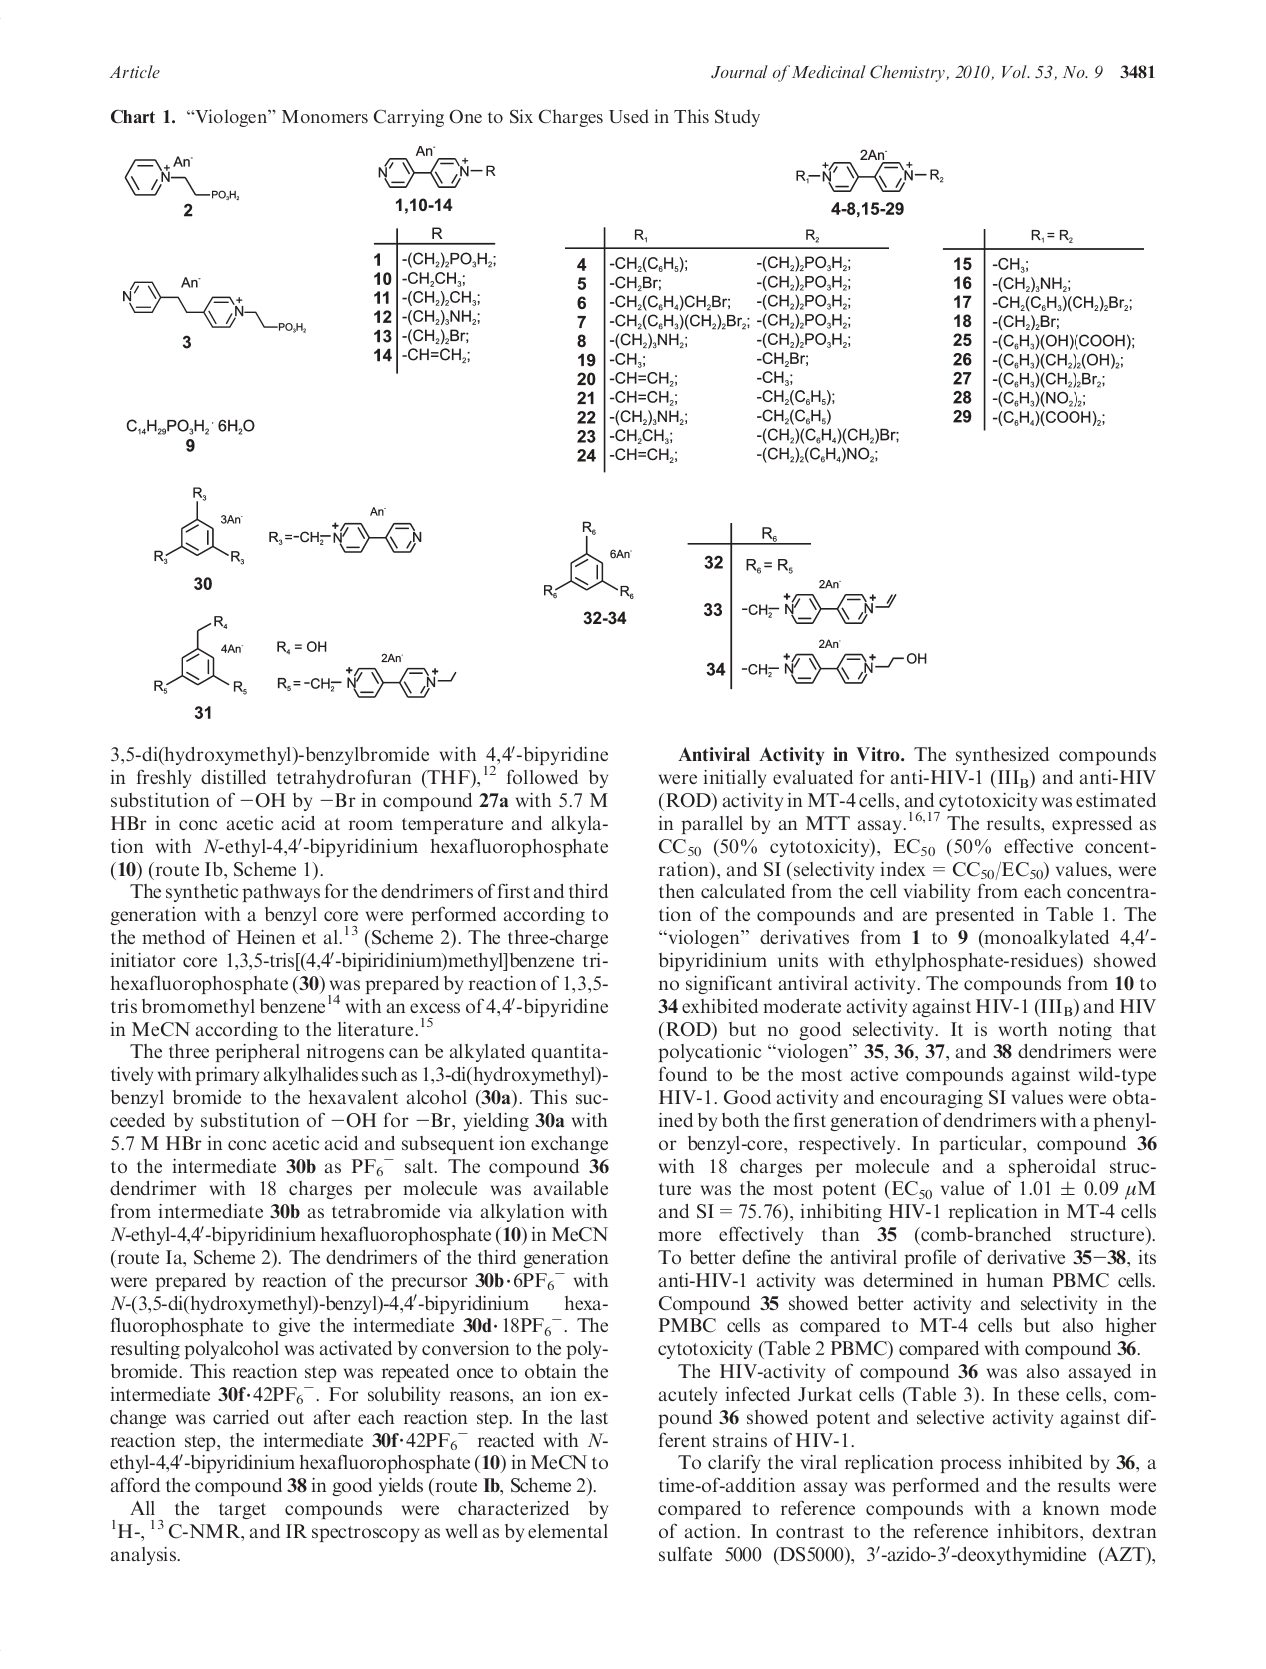exist_molecular: (148, 601, 463, 701), (120, 267, 313, 339), (259, 495, 427, 565), (533, 517, 640, 610), (743, 638, 942, 686), (152, 479, 246, 572), (743, 577, 906, 630), (790, 146, 944, 195), (376, 141, 501, 195), (118, 150, 239, 205)
